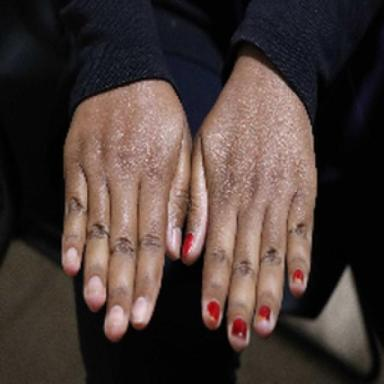normal skin: (183, 53, 317, 317), (63, 80, 191, 341)
